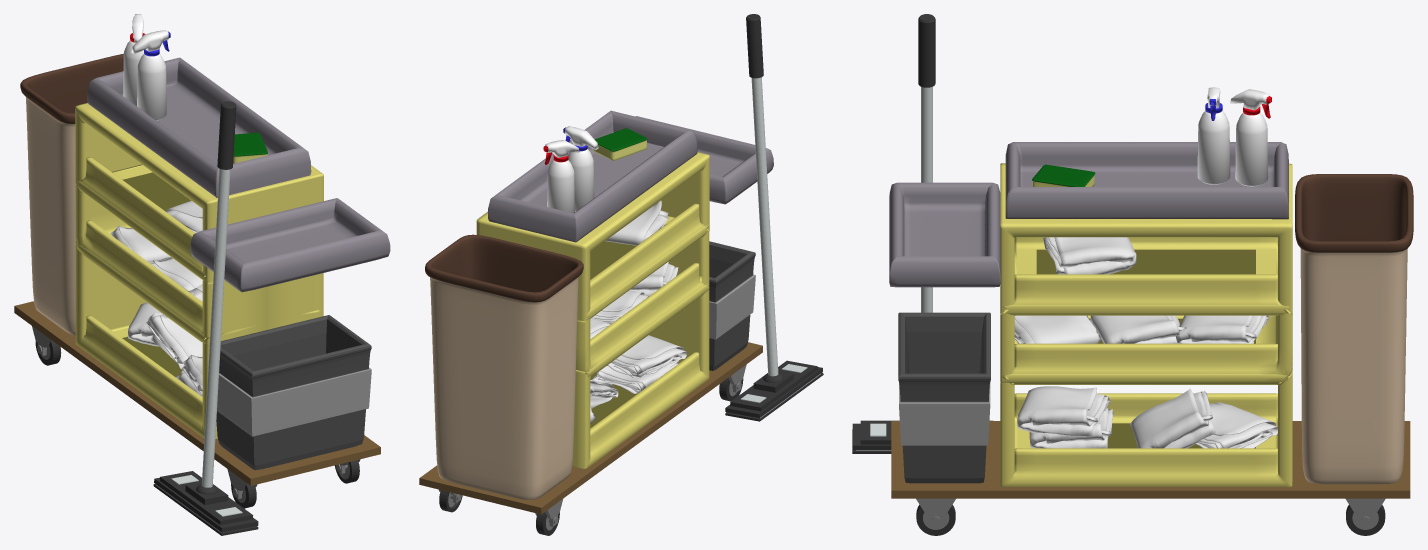
The model's file is cleaning supplies 8.3.fbx.
3 views of the same model, side by side, from view 1: azimuth 30°, elevation 25°; view 2: azimuth 150°, elevation 25°; view 3: azimuth 270°, elevation 25° (orthographic). The views are drawn at different scales.
Parts seen in each view (by area): view 1: Cube, Cube.003, Cube.004, Cube.002, Cube.005, Cube.001, Cylinder, Sphere, Cylinder.003, Cylinder.002, Plane.006, Cylinder.004 (+7 smaller); view 2: Cube.002, Cube, Cube.004, Cube.003, Cube.001, Cube.005, Cylinder, Sphere, Cylinder.004, Plane.001, Cylinder.003, Cylinder.002 (+7 smaller); view 3: Cube, Cube.002, Cube.004, Cube.003, Cube.005, Cube.001, Plane.001, Plane.006, Plane.007, Cylinder.004, Cylinder.002, Cylinder.003 (+9 smaller).
Part boxes in pixels (left/top/right/bottom): Cube: left=75, top=102, right=323, bottom=438; Cube.003: left=216, top=315, right=371, bottom=470; Cube.004: left=87, top=57, right=311, bottom=197; Cube.002: left=20, top=53, right=123, bottom=335; Cube.005: left=190, top=198, right=390, bottom=292; Cube.001: left=14, top=301, right=380, bottom=485; Cylinder: left=201, top=169, right=230, bottom=487; Sphere: left=153, top=471, right=258, bottom=535; Cylinder.003: left=131, top=30, right=170, bottom=120; Cylinder.002: left=32, top=326, right=360, bottom=508; Plane.006: left=146, top=312, right=202, bottom=369; Cylinder.004: left=123, top=14, right=145, bottom=105; Cube.002: left=425, top=234, right=583, bottom=499; Cube: left=476, top=152, right=709, bottom=469; Cube.004: left=488, top=110, right=697, bottom=242; Cube.003: left=709, top=241, right=755, bottom=370; Cube.001: left=419, top=342, right=762, bottom=514; Cube.005: left=635, top=116, right=773, bottom=204; Cylinder: left=751, top=77, right=778, bottom=376; Sphere: left=725, top=360, right=823, bottom=421; Cylinder.004: left=543, top=140, right=579, bottom=213; Plane.001: left=607, top=335, right=686, bottom=377; Cylinder.003: left=563, top=126, right=598, bottom=211; Cylinder.002: left=438, top=364, right=746, bottom=535; Cube: left=1000, top=163, right=1292, bottom=487; Cube.002: left=1295, top=174, right=1413, bottom=484; Cube.004: left=1005, top=142, right=1288, bottom=219; Cube.003: left=898, top=312, right=990, bottom=483; Cube.005: left=889, top=182, right=1000, bottom=287; Cube.001: left=891, top=421, right=1410, bottom=498; Plane.001: left=1017, top=386, right=1110, bottom=436; Plane.006: left=1130, top=388, right=1215, bottom=448; Plane.007: left=1043, top=237, right=1136, bottom=274; Cylinder.004: left=1230, top=89, right=1271, bottom=186; Cylinder.002: left=916, top=498, right=1385, bottom=535; Cylinder.003: left=1197, top=87, right=1230, bottom=184.
Bounding box in the file's own units: 317 × 670 × 755.
